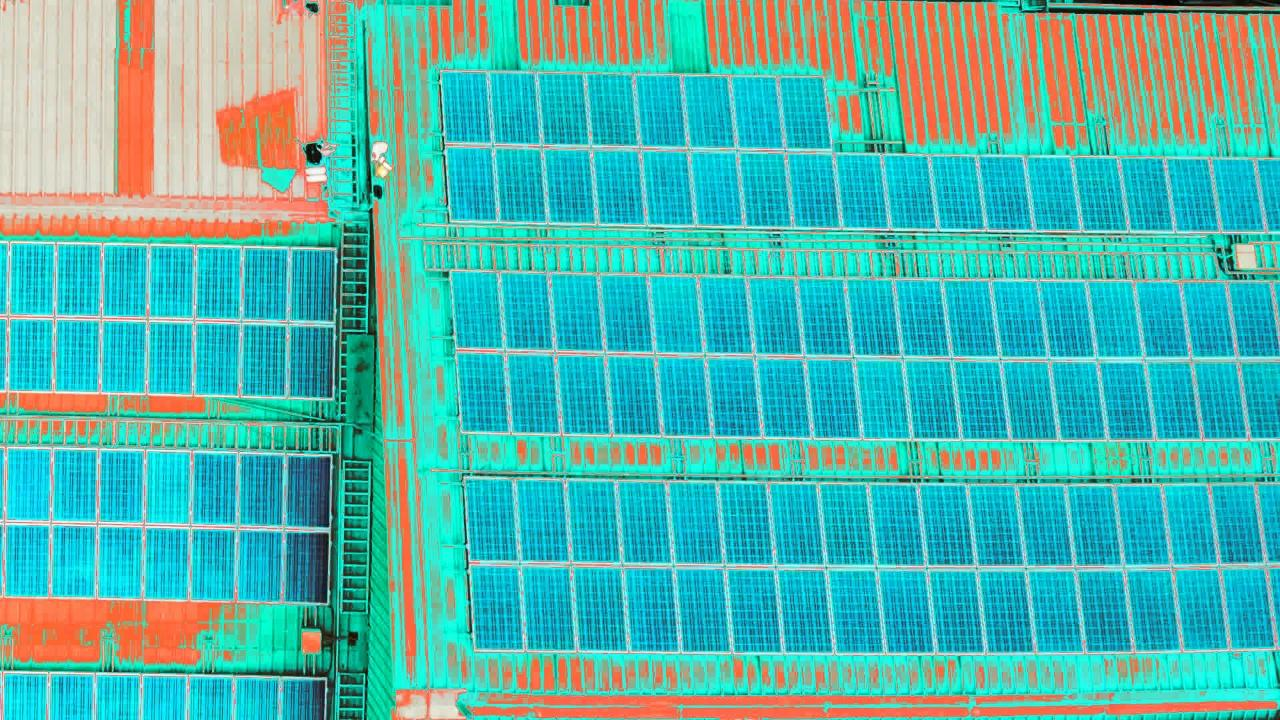dirty: (5, 244, 333, 398), (11, 447, 324, 607)
semi: (463, 472, 1279, 644), (453, 282, 1279, 431), (438, 78, 840, 230), (838, 159, 1278, 228)
